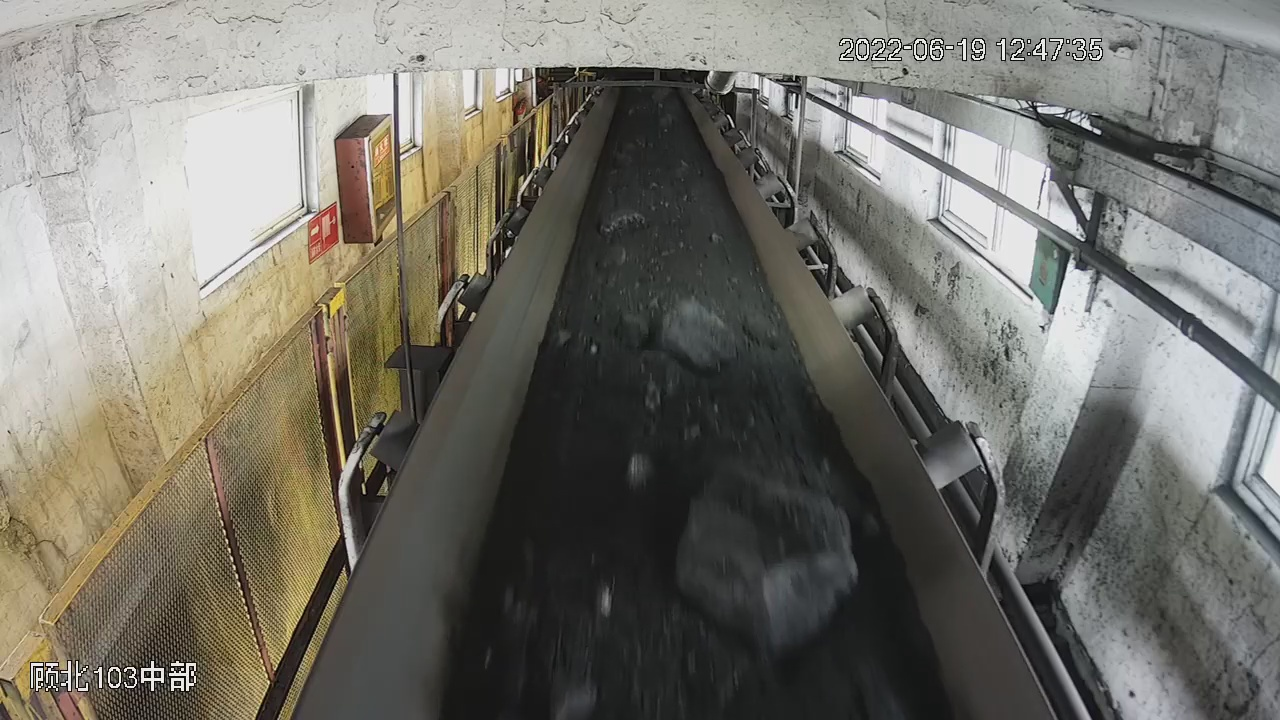gangue: (678, 460, 858, 655), (538, 576, 596, 711), (621, 293, 737, 360), (600, 205, 647, 233), (630, 450, 648, 491)
